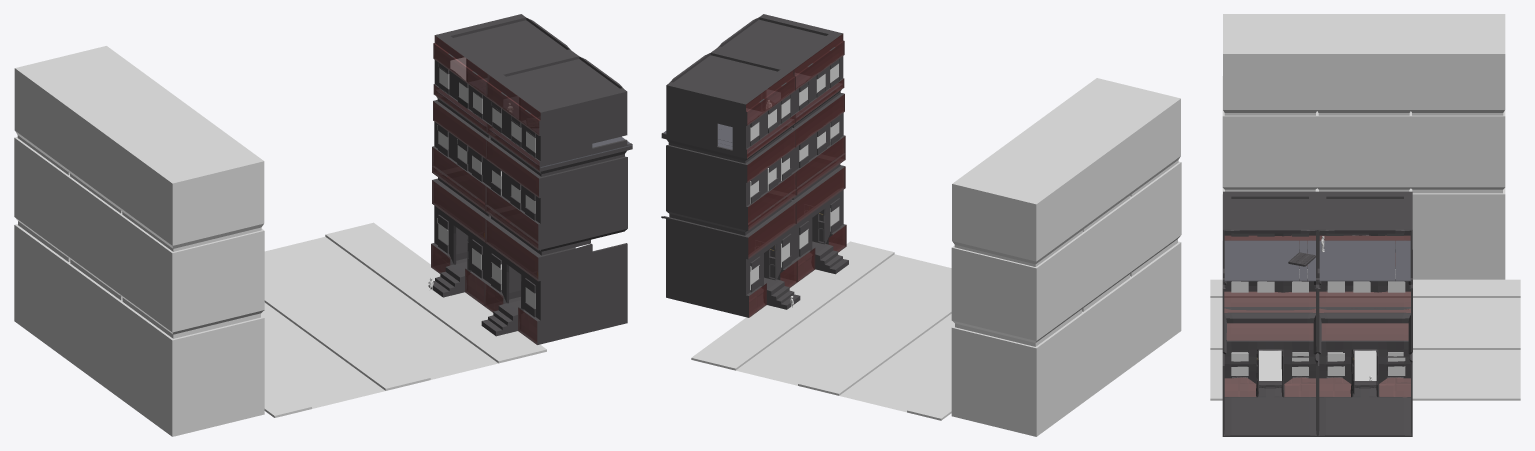
File: predio_tutorial.fbx
3 renders of one model, left to right at view 1: azimuth 30°, elevation 25°; view 2: azimuth 150°, elevation 25°; view 3: azimuth 270°, elevation 25°, orthographic. The views are drawn at different scales.
Parts seen in each view (by area): view 1: Cube.005, Cube, Plane, Cube.003, Cube.004, Cube.013, Plane.001, Plane.015; view 2: Cube.003, Cube.013, Plane, Cube.005, Cube.004, Cube, Plane.001, Plane.015; view 3: Cube.003, Plane, Cube.013, Cube, Cube.005, Cube.004, Plane.001, Plane.015.
Part boxes in pixels (x1,y1,x2,y2): Cube.005: (119,123,264,436); Cube: (481,53,632,344); Plane: (261,222,546,417); Cube.003: (14,46,159,359); Cube.004: (66,84,211,397); Cube.013: (428,14,573,306); Plane.001: (435,78,518,127); Plane.015: (488,120,632,167); Cube.003: (951,148,1085,436); Cube.013: (661,49,800,317); Plane: (691,241,954,420); Cube.005: (1049,78,1181,365); Cube.004: (1001,113,1133,401); Cube: (715,14,848,282); Plane.001: (663,108,793,153); Plane.015: (766,73,842,117); Cube.003: (1410,14,1505,279); Plane: (1210,279,1520,400); Cube.013: (1317,191,1412,436); Cube: (1222,191,1317,436); Cube.005: (1222,14,1317,240); Cube.004: (1316,14,1411,240); Plane.001: (1318,240,1411,281); Plane.015: (1222,240,1315,281).
Bounding box in the file's own units: 2899 × 1523 × 1889.
